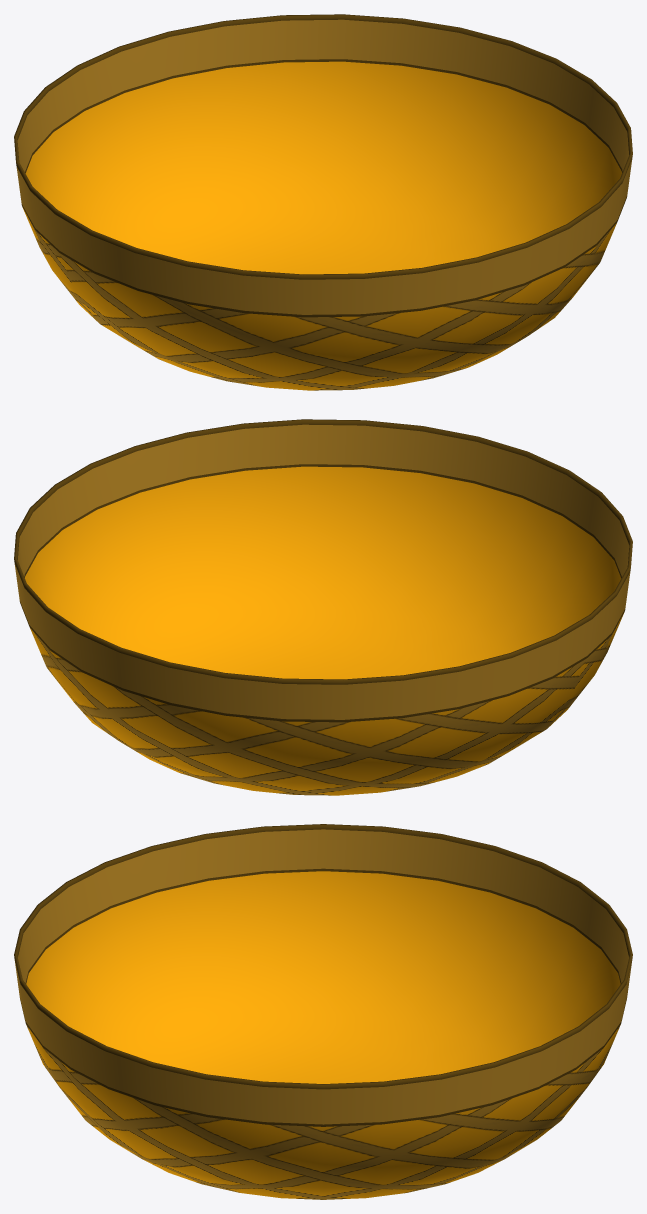
The model's file is Kago.fbx.
3 views of the same model, one above another, from view 1: azimuth 30°, elevation 25°; view 2: azimuth 150°, elevation 25°; view 3: azimuth 270°, elevation 25° (orthographic).
Visible parts, largest first — view 1: Kago; view 2: Kago; view 3: Kago.
Part boxes in pixels (box(x1,y1,x2,y2)): Kago: box(14, 14, 632, 390); Kago: box(14, 419, 632, 795); Kago: box(14, 824, 632, 1199).
Size of the model in its own units: 200 by 64.42 by 200.
4 materials, 4 textured.
